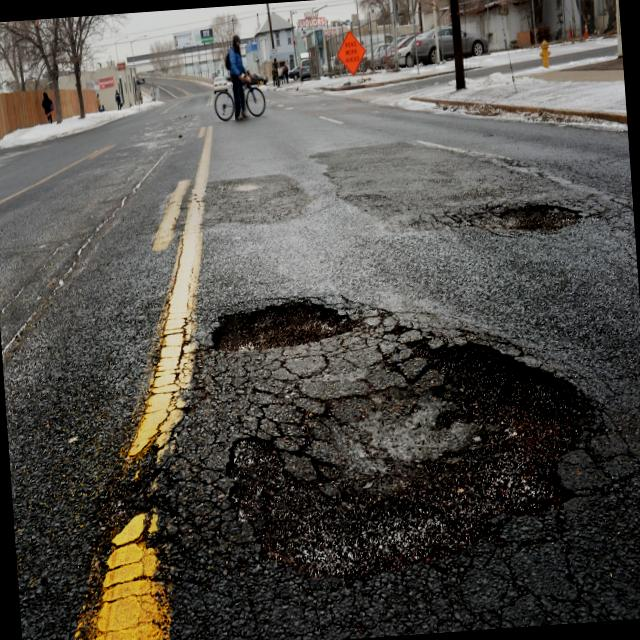bad-road: (217, 324, 607, 592), (208, 295, 356, 350), (497, 196, 582, 238)
